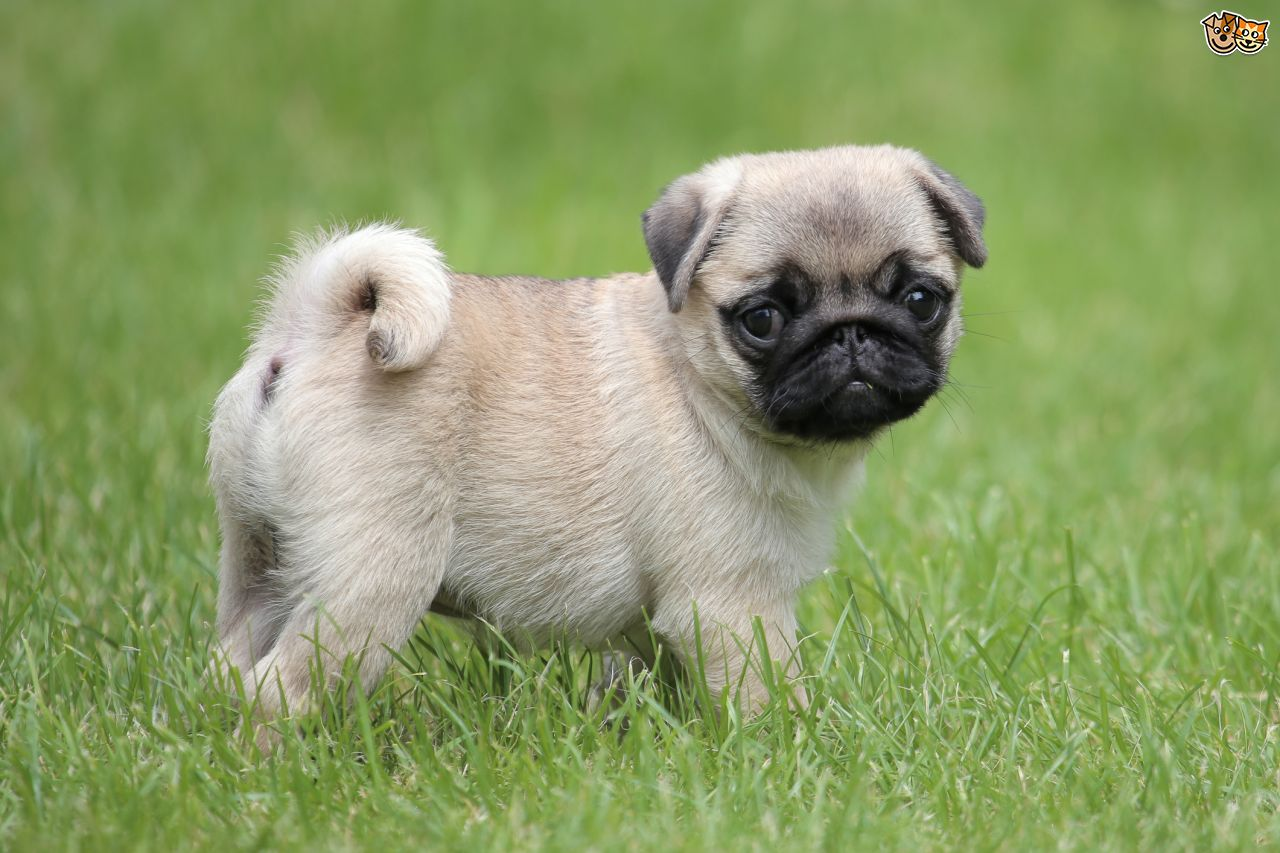dog: (198, 148, 990, 768)
